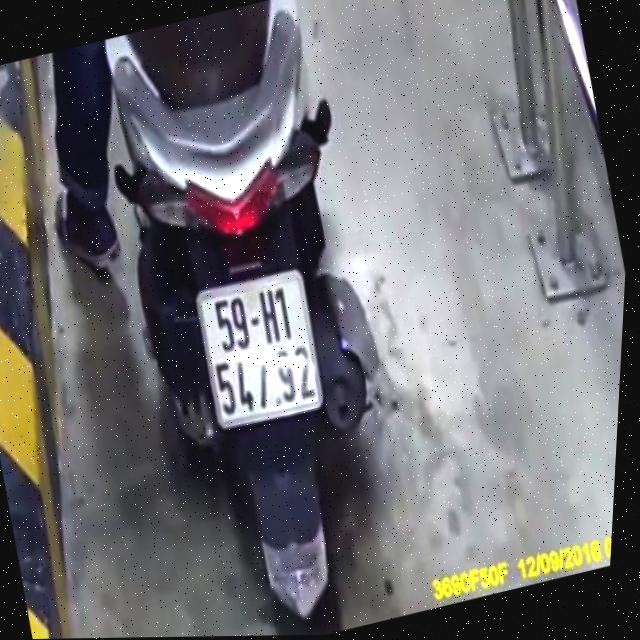motorcycle: (59, 0, 468, 639)
plate: (181, 260, 334, 434)
